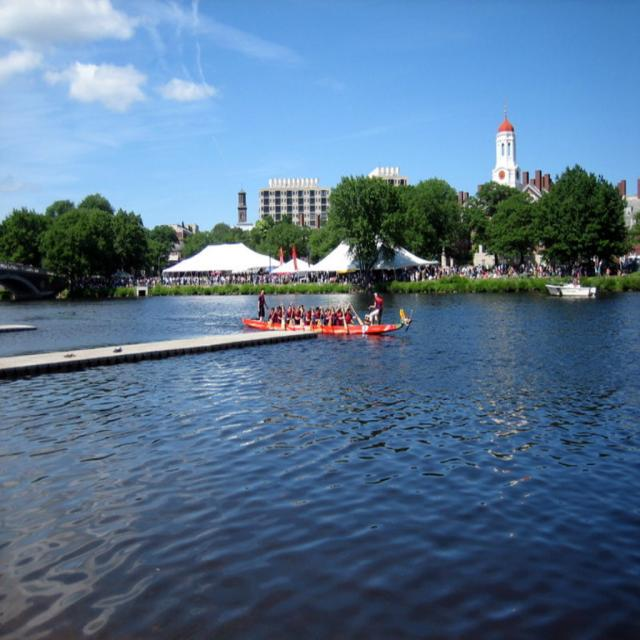Boat: (242, 314, 412, 335), (546, 280, 598, 298)
